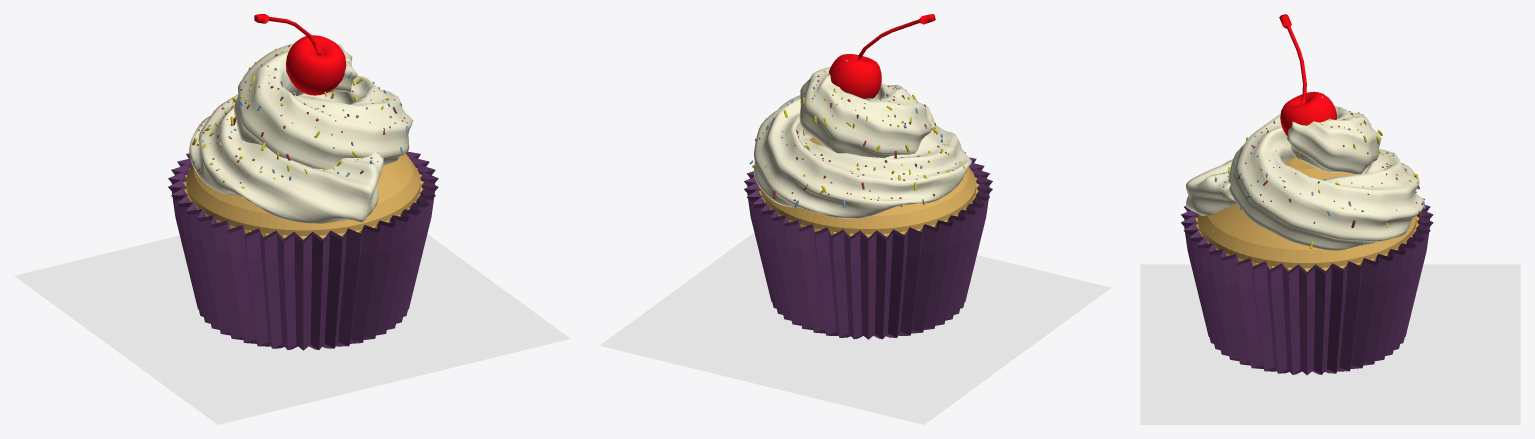
3 renders of one model, left to right at view 1: azimuth 30°, elevation 25°; view 2: azimuth 150°, elevation 25°; view 3: azimuth 270°, elevation 25°, orthographic. The views are drawn at different scales.
Parts seen in each view (by area): view 1: Plane, cup, cream, cake, cherry; view 2: Plane, cup, cream, cake, cherry; view 3: Plane, cup, cream, cake, cherry, cherry001.
Boxes of the visible parts, x1,y1,x2,y2 form: Plane: [14, 234, 570, 424]; cup: [168, 146, 438, 350]; cream: [189, 34, 413, 223]; cake: [183, 153, 423, 239]; cherry: [286, 35, 346, 95]; Plane: [599, 232, 1110, 424]; cup: [744, 152, 992, 339]; cream: [753, 60, 971, 218]; cake: [758, 137, 978, 237]; cherry: [829, 54, 881, 98]; Plane: [1140, 264, 1520, 424]; cup: [1181, 191, 1433, 375]; cream: [1186, 96, 1424, 250]; cake: [1195, 157, 1419, 271]; cherry: [1280, 91, 1336, 136]; cherry001: [1279, 14, 1306, 104].
Bounding box in the file's own units: 0.5472 × 0.4828 × 0.5472.
